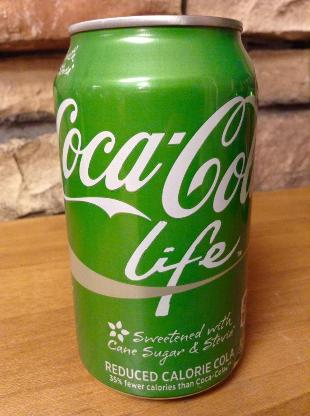Can: (53, 14, 267, 402)
